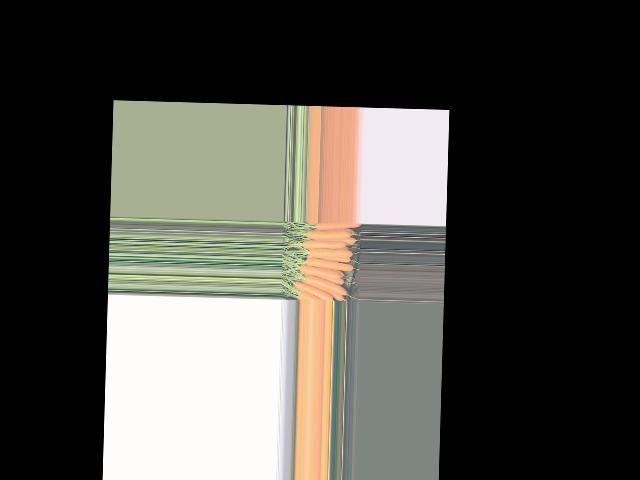carrot: (294, 285, 337, 295)
